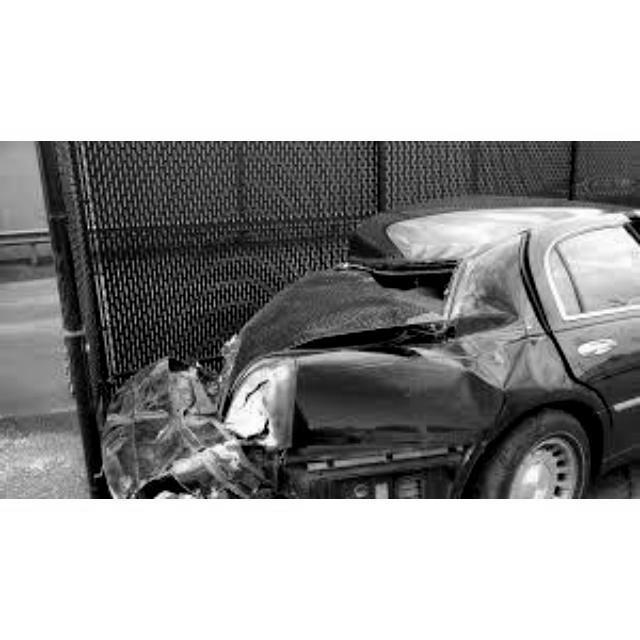quaterpanel-dent: (356, 346, 550, 422)
rear-bumper-dent: (129, 361, 242, 489)
